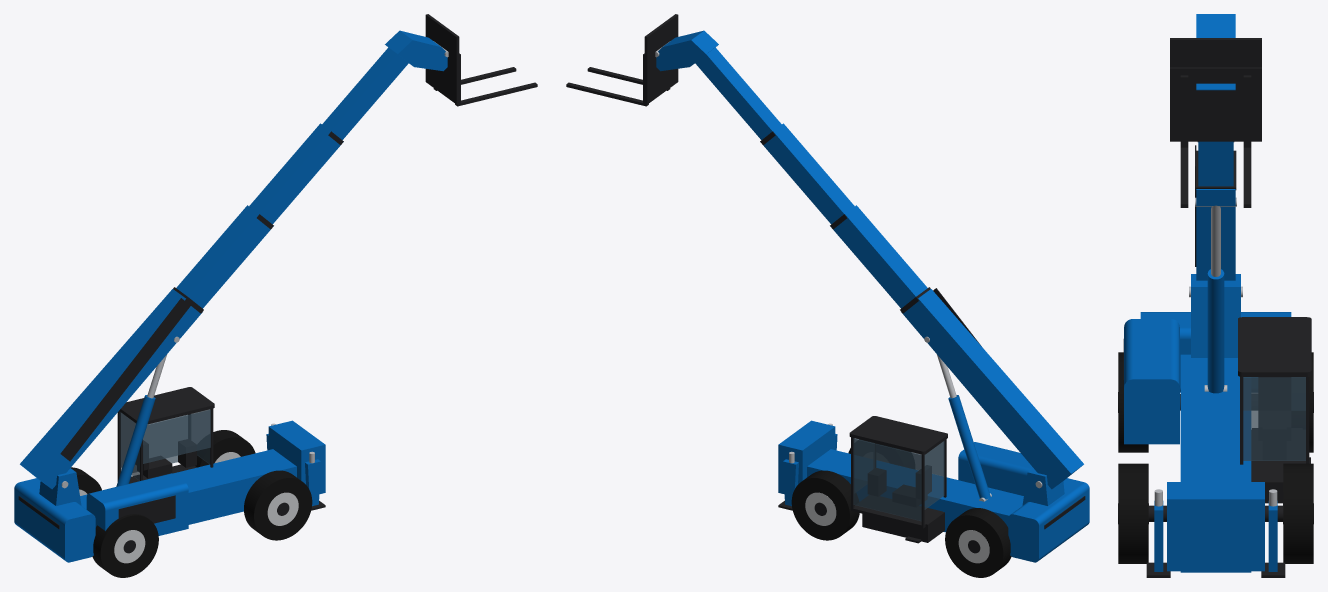
Rendered from telehandler-10k-raised-45.glb.
The picture shows the model from 3 angles, left to right: view 1: azimuth 30°, elevation 25°; view 2: azimuth 150°, elevation 25°; view 3: azimuth 270°, elevation 25°; orthographic projection. The views are drawn at different scales.
Parts seen in each view (by area): view 1: frame, rear_axle, rear_tyre_1, cab_glass_front, rear_rim_1; view 2: frame, rear_axle, cab_glass_front, rear_tyre_1, rear_rim_1; view 3: frame, rear_axle, rear_tyre_1, cab_glass_front, stabilizer_cyl_1.
Boxes of the visible parts, x1,y1,x2,y2 form: frame: (14,30,447,562); rear_axle: (18,14,537,553); rear_tyre_1: (71,430,312,577); cab_glass_front: (120,409,210,480); rear_rim_1: (79,452,298,563); frame: (656,30,1089,562); rear_axle: (566,14,1085,553); cab_glass_front: (853,438,944,521); rear_tyre_1: (791,439,1011,577); rear_rim_1: (805,492,989,563); frame: (1124,14,1291,572); rear_axle: (1118,38,1313,577); rear_tyre_1: (1118,352,1313,563); cab_glass_front: (1243,377,1305,460); stabilizer_cyl_1: (1154,197,1277,506).
Bounding box in the file's own units: 11.4 × 9.66 × 2.6.
